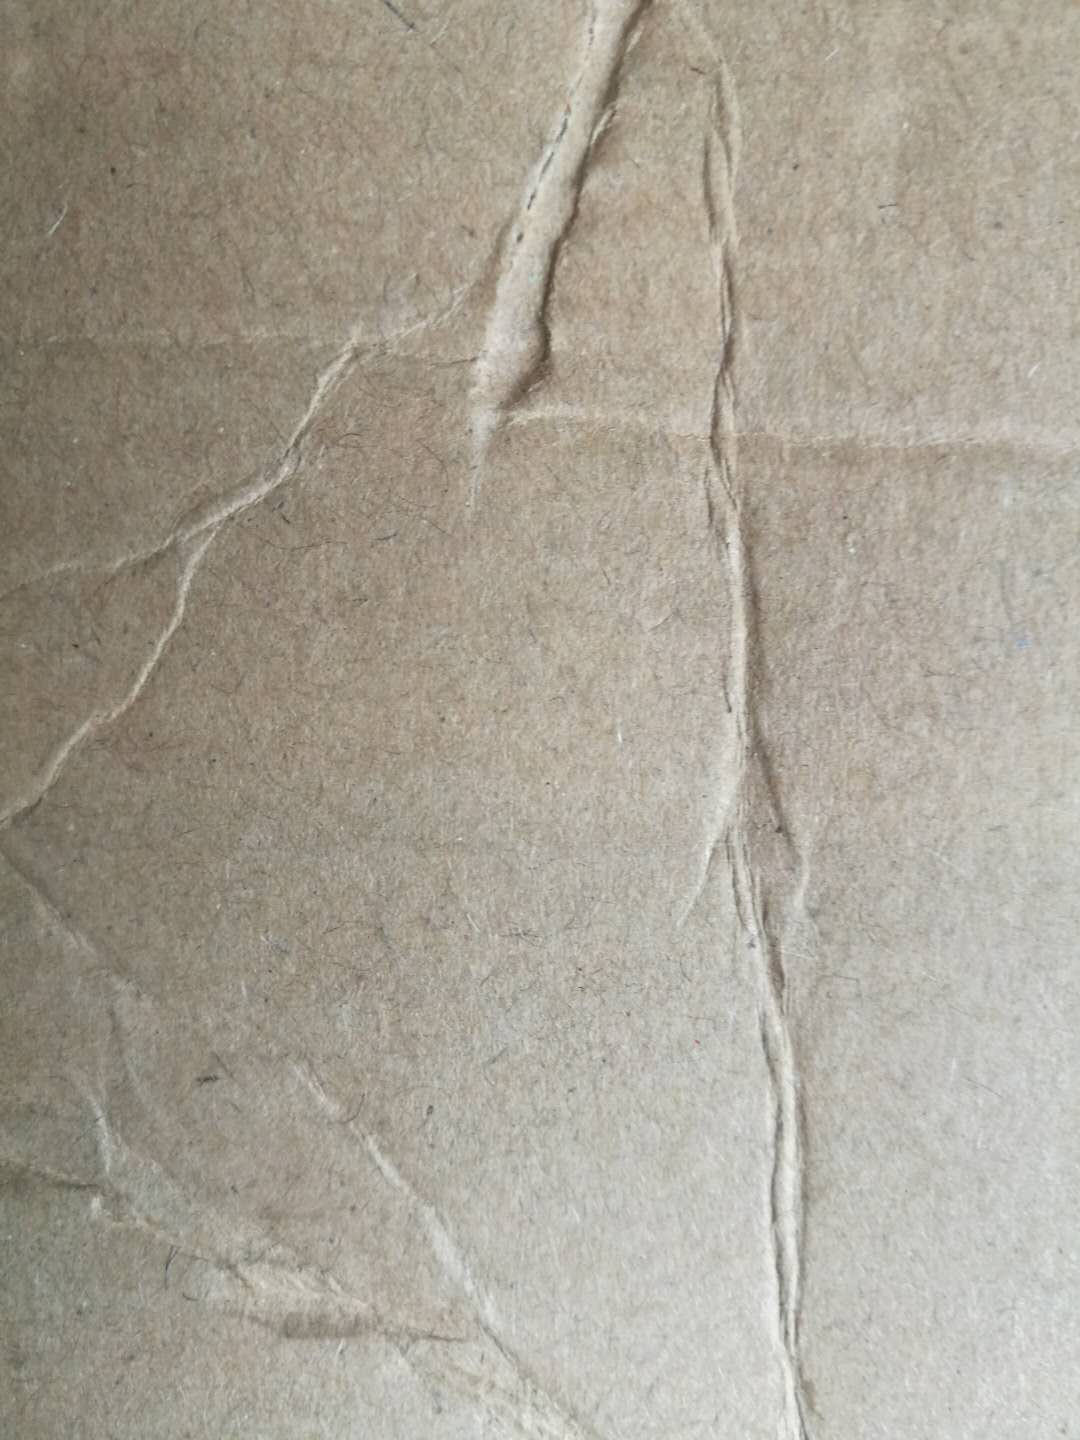defect: (434, 1, 911, 1440), (3, 2, 685, 836), (3, 848, 651, 1440)
